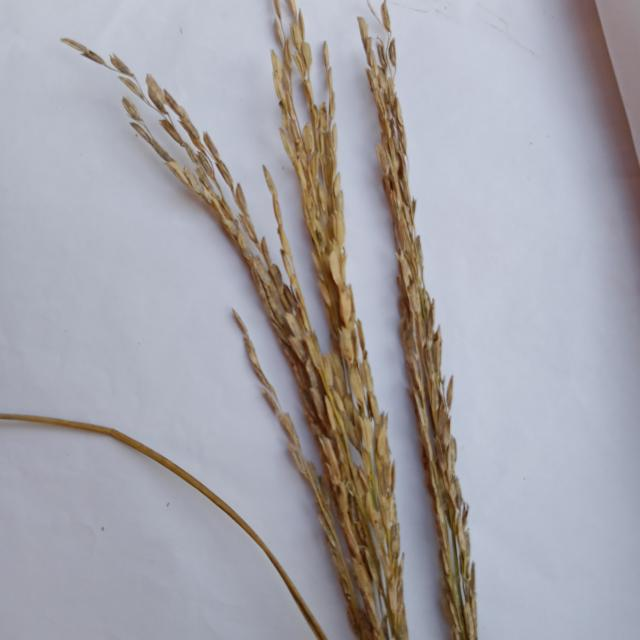Neck_Blast: (255, 104, 403, 633), (366, 62, 477, 640)
